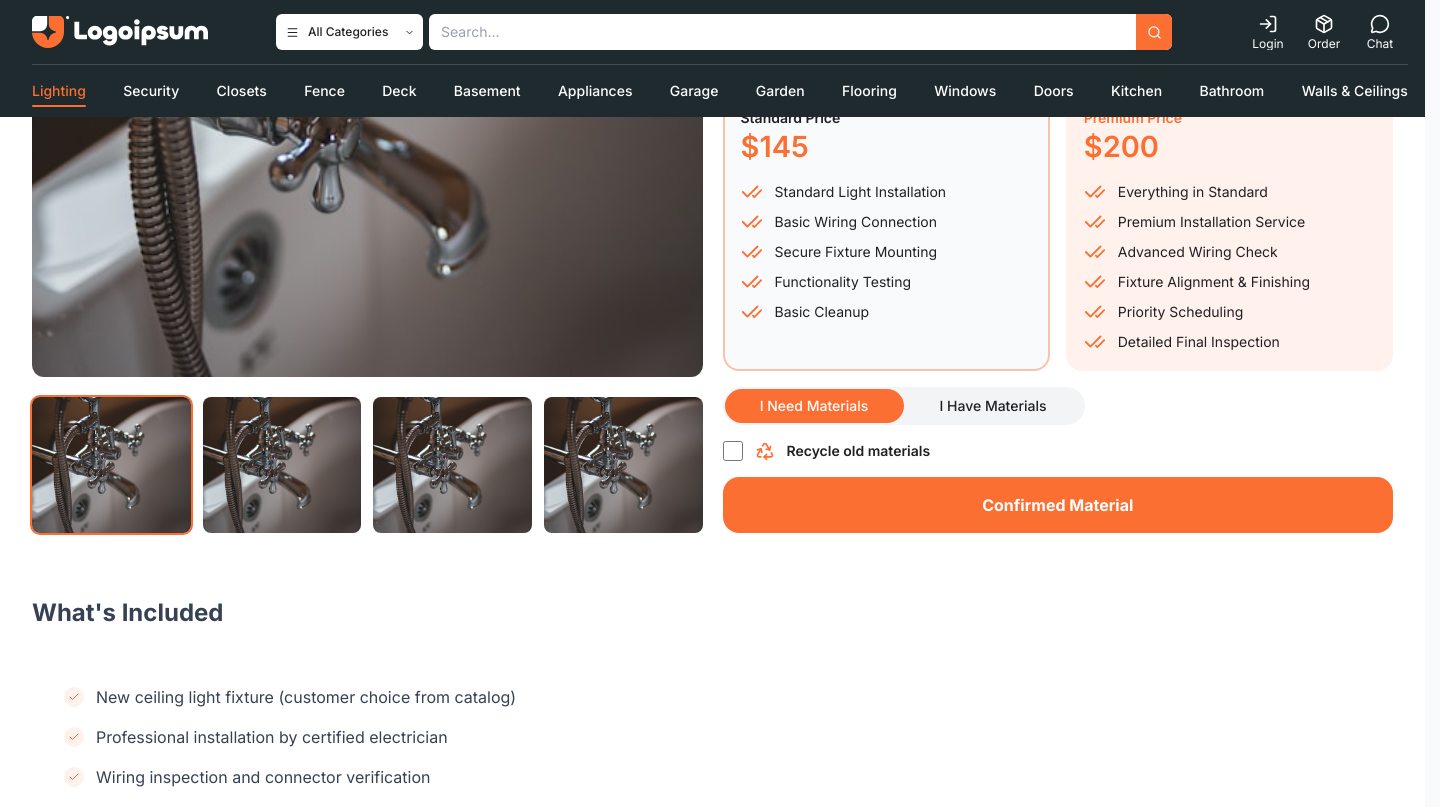
Test: Service details page › toggles materials and recycle options before confirming the job
(page scrolled)
Click the button "I Have Materials". click: (993, 406)
box: [904,389,1082,422]
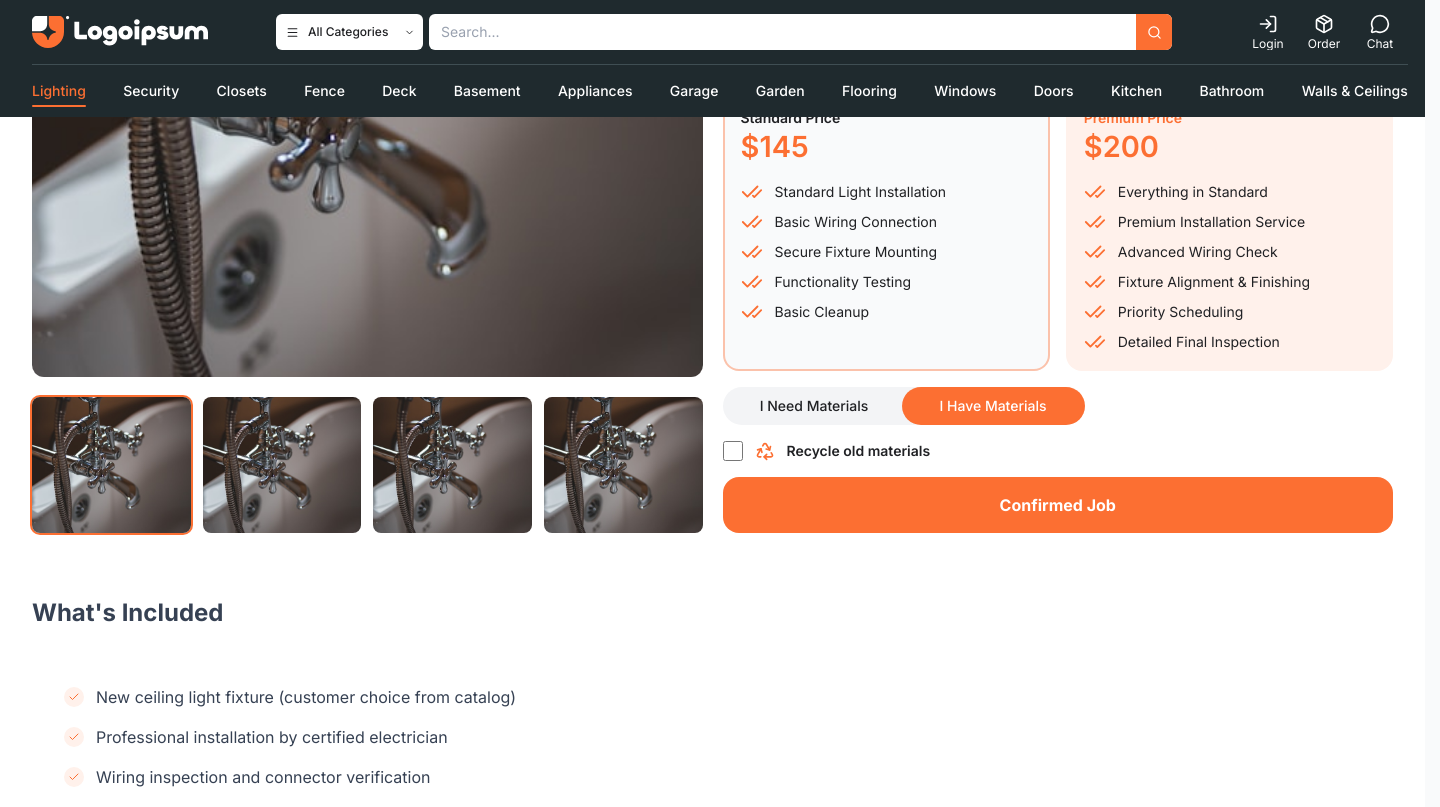
Expected: the button "Confirmed Job" is shown, [722,476,1393,532]
Expected: the button "Confirmed Material" is gone
Click the checkbox labelled "Recycle old materials". click: (732, 450)
box: [722,440,742,460]
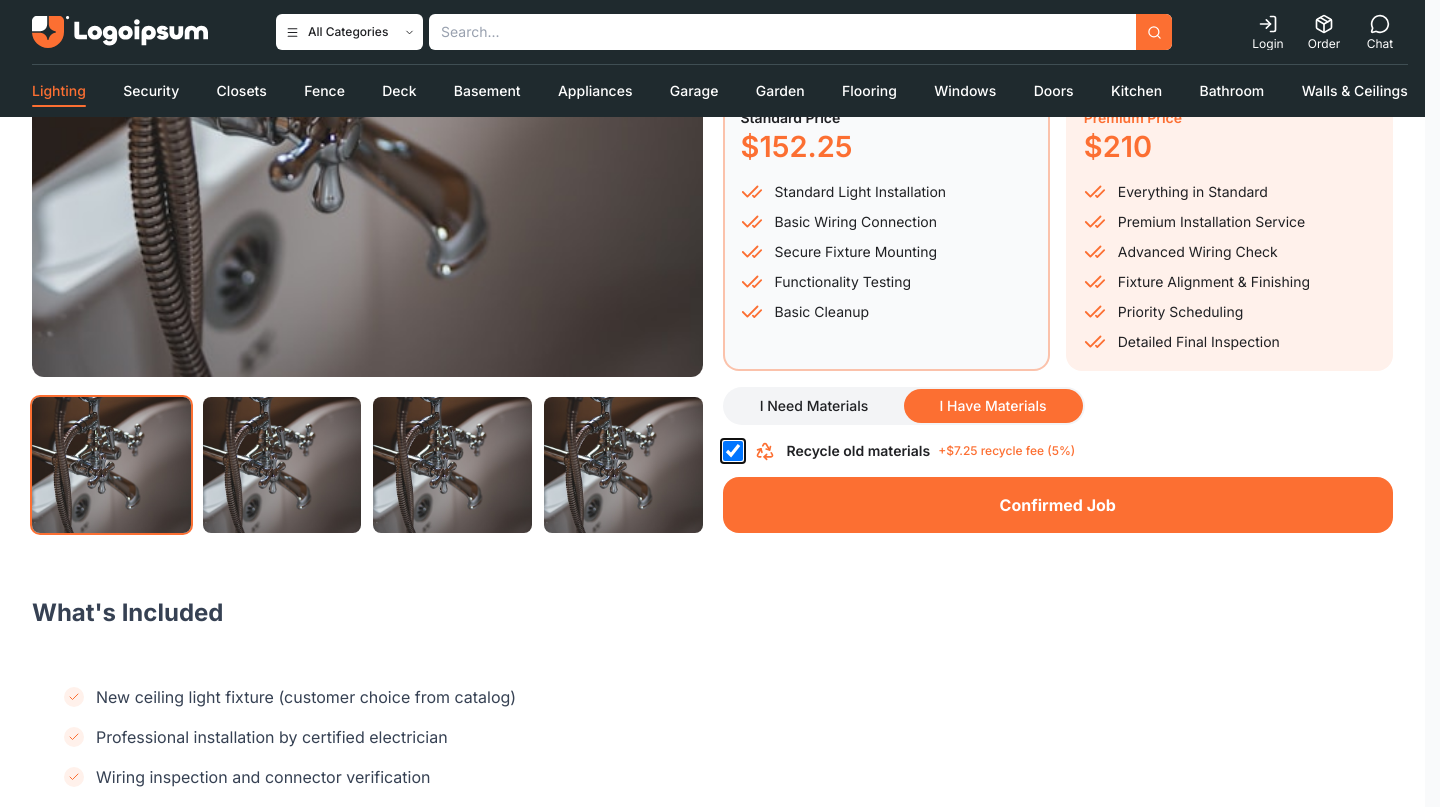
Expected: the checkbox labelled "Recycle old materials" is checked, [722,440,742,460]
Expected: the text "+$7.25 recycle fee (5%)" is shown, [938,442,1075,458]
